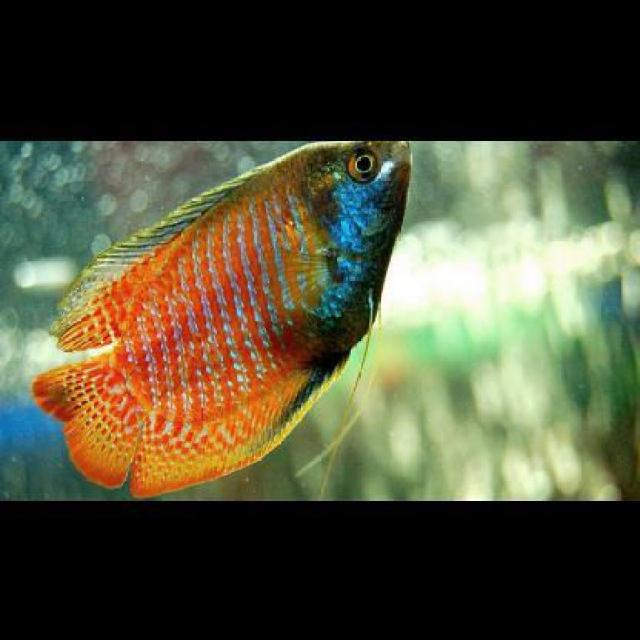Gourami: (30, 140, 416, 488)
